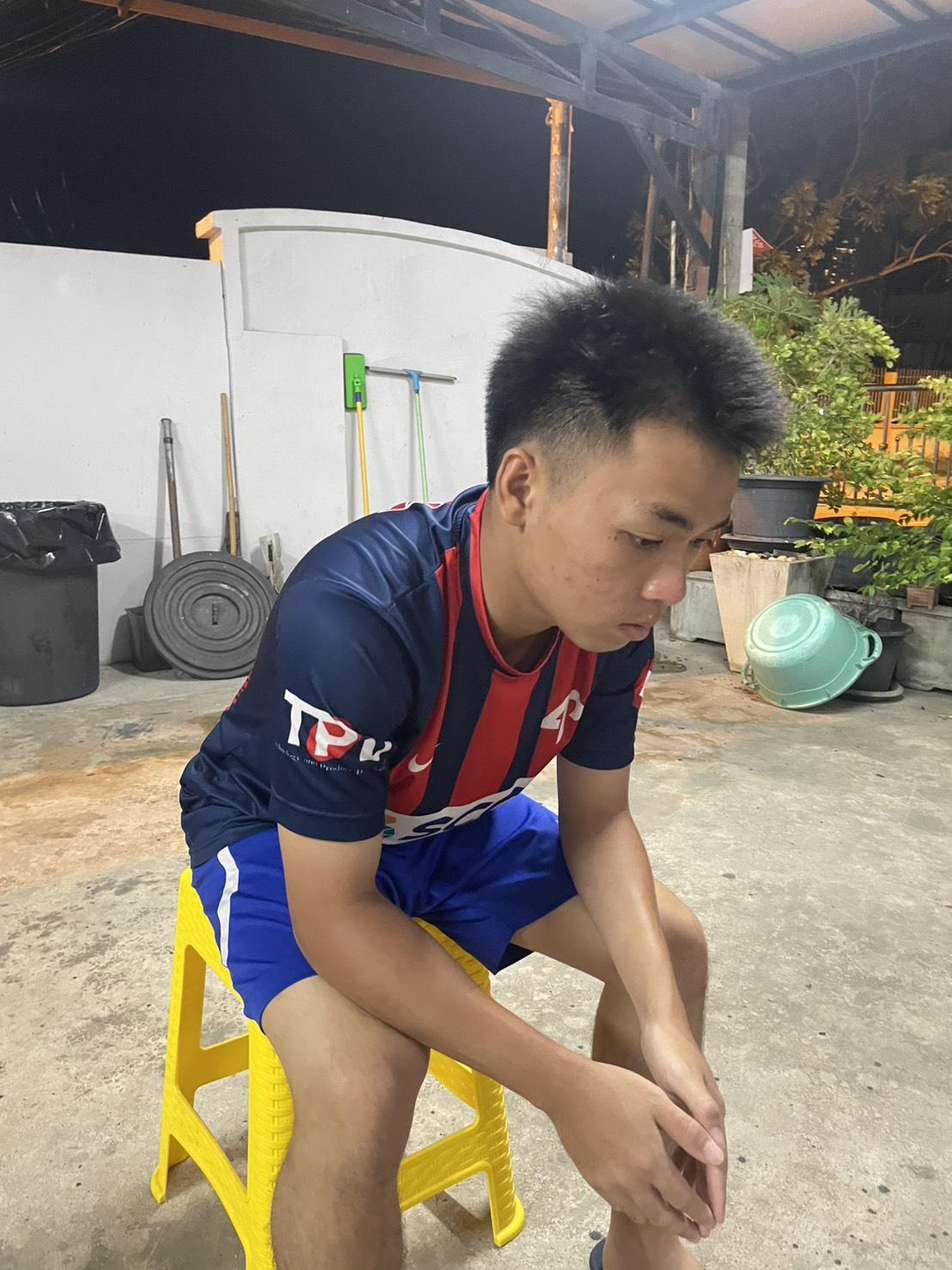BadPosture: (181, 279, 784, 879)
